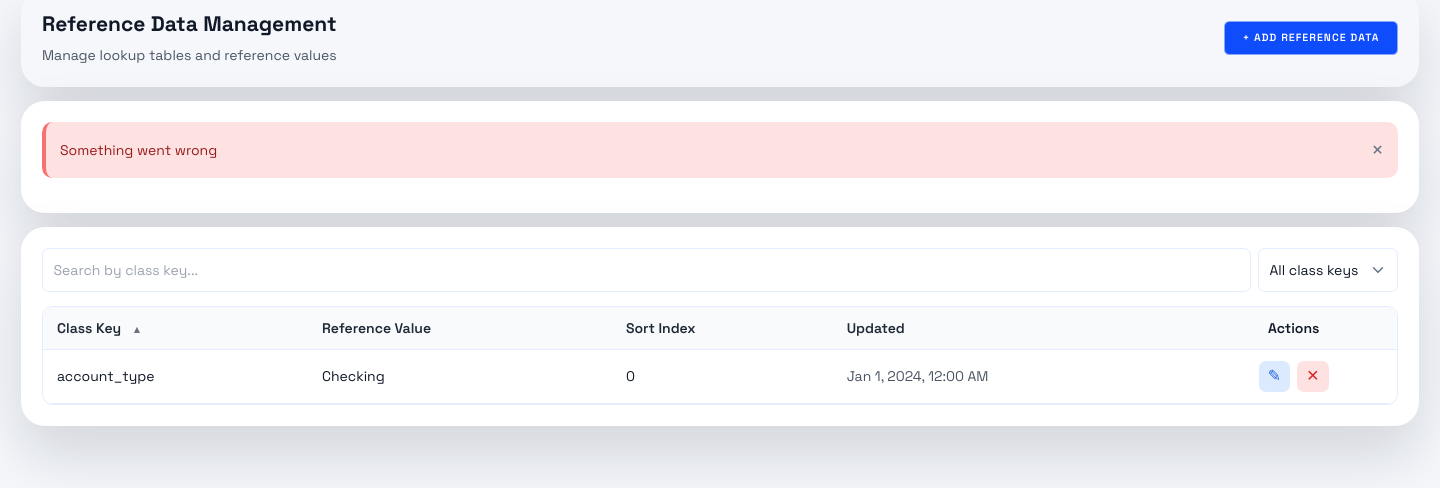
Test case: ReferenceDataAdmin interactions › clearError: clicking x button clears the error
The width and height of the screenshot is (1440, 488).
Click the button with class "btn-close".
click(1378, 150)  # box x1=1371 y1=136 x2=1384 y2=164
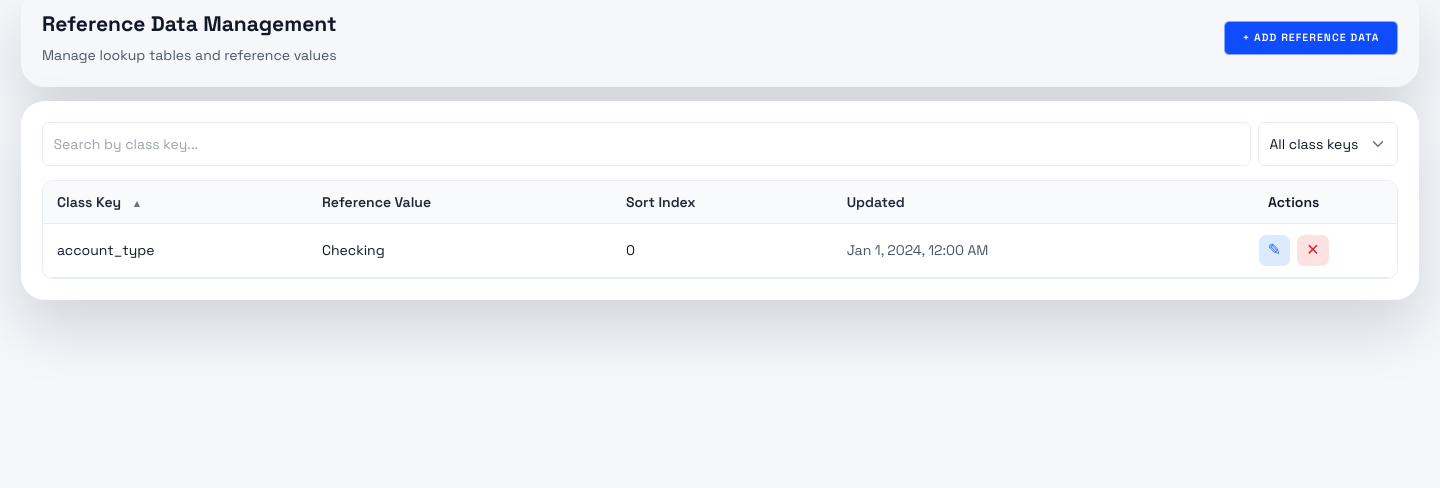
Expected: the text "Something went wrong" is gone
